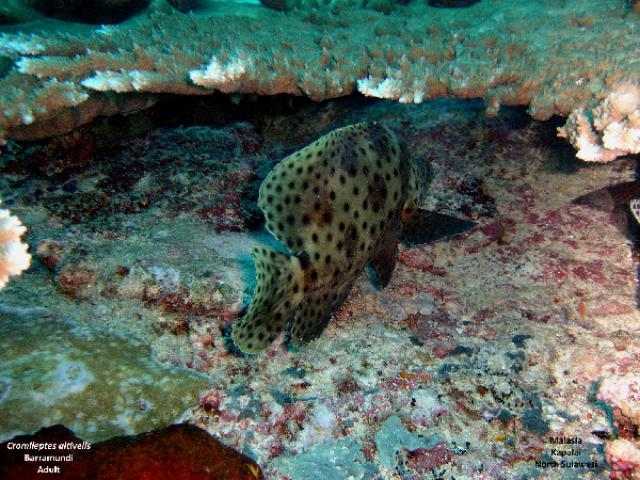Sirip Anal: (290, 282, 360, 352)
Sirip Ekor: (220, 240, 292, 372)
Sirip Perut: (366, 236, 409, 296)
Sirip Punggung: (248, 120, 378, 236)
